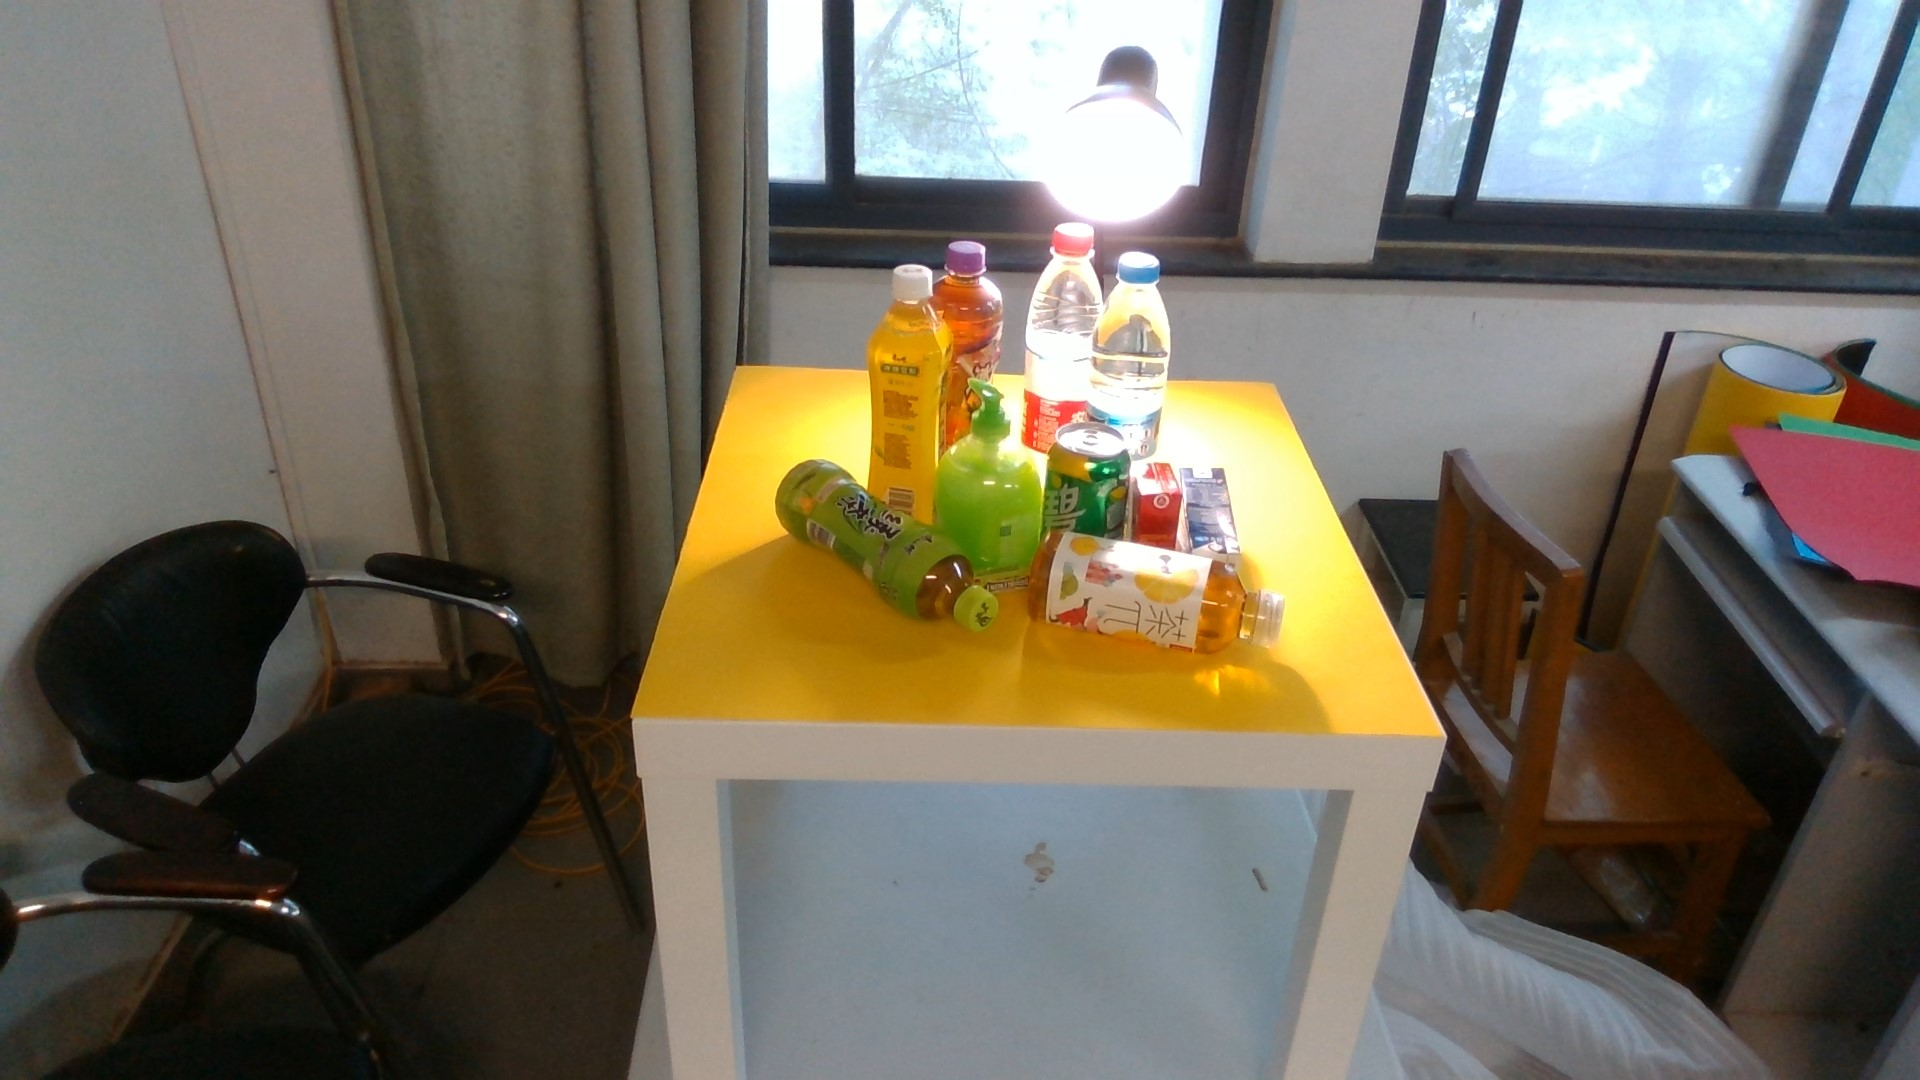BB010: (1180, 464, 1236, 550)
BB012: (1131, 460, 1178, 542)
ZA002: (934, 429, 1044, 535)
ZC001: (1047, 423, 1126, 531)
ZC009: (940, 239, 1004, 380)
ZC010: (771, 495, 928, 620)
ZC011: (869, 266, 940, 496)
ZC012: (1030, 553, 1287, 650)
ZC014: (1027, 222, 1091, 417)
ZC019: (1093, 252, 1168, 423)
